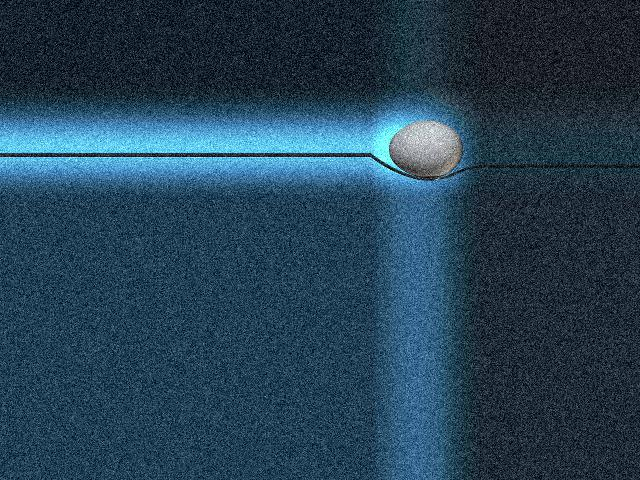egg: (389, 121, 463, 177)
